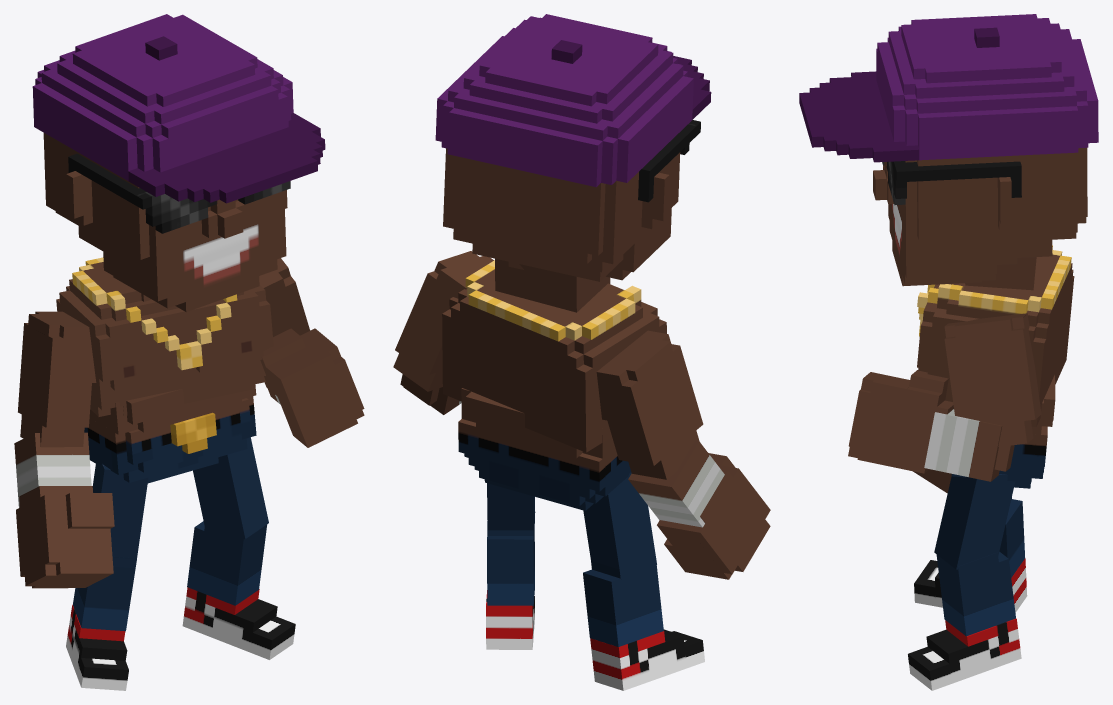
The model's file is el_ray.fbx.
The picture shows the model from 3 angles, left to right: view 1: azimuth 30°, elevation 25°; view 2: azimuth 150°, elevation 25°; view 3: azimuth 270°, elevation 25°; orthographic projection.
Parts seen in each view (by area): view 1: nigga; view 2: nigga; view 3: nigga.
Boxes of the visible parts, x1=… form: nigga: x1=14, y1=14, x2=364, y2=690; nigga: x1=393, y1=14, x2=770, y2=690; nigga: x1=799, y1=14, x2=1098, y2=690.
Bounding box in the file's own units: 323 × 587 × 262.
Materials: 1 (1 with a texture image).
